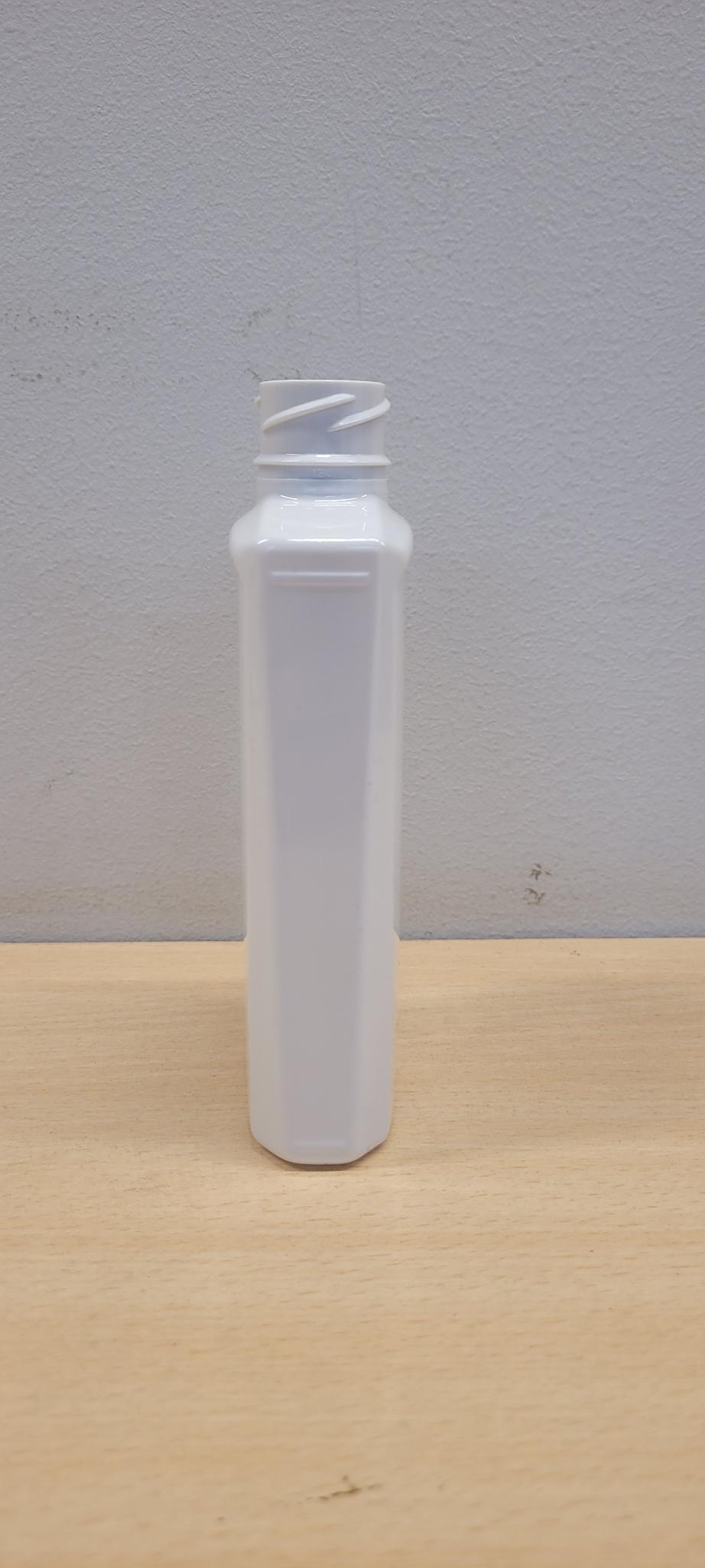bottle: (230, 378, 412, 1167)
